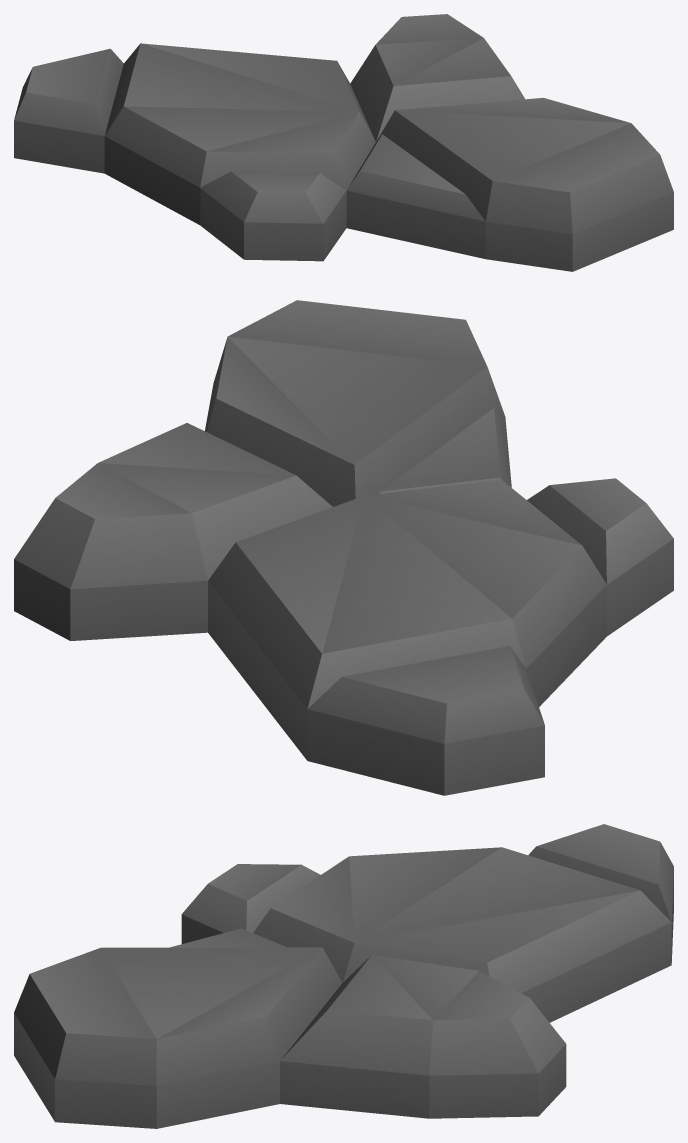
The model's file is pack02_rocks_13.fbx.
The picture shows the model from 3 angles, top to bottom: view 1: azimuth 30°, elevation 25°; view 2: azimuth 150°, elevation 25°; view 3: azimuth 270°, elevation 25°; orthographic projection. The views are drawn at different scales.
Visible parts, largest first — view 1: Rock Type4 01 mesh; view 2: Rock Type4 01 mesh; view 3: Rock Type4 01 mesh.
Boxes of the visible parts, x1,y1,x2,y2 form: Rock Type4 01 mesh: (14,14,673,271); Rock Type4 01 mesh: (14,300,673,795); Rock Type4 01 mesh: (14,824,673,1128).
Bounding box in the file's own units: 186 × 31.56 × 214.
1 material, 1 textured.
